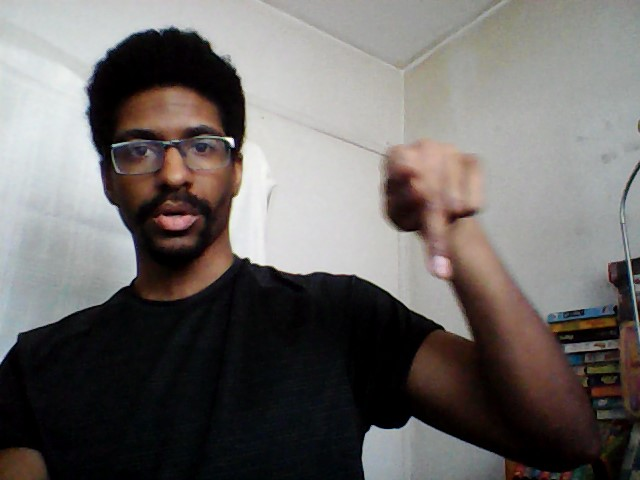p: (373, 136, 495, 280)
